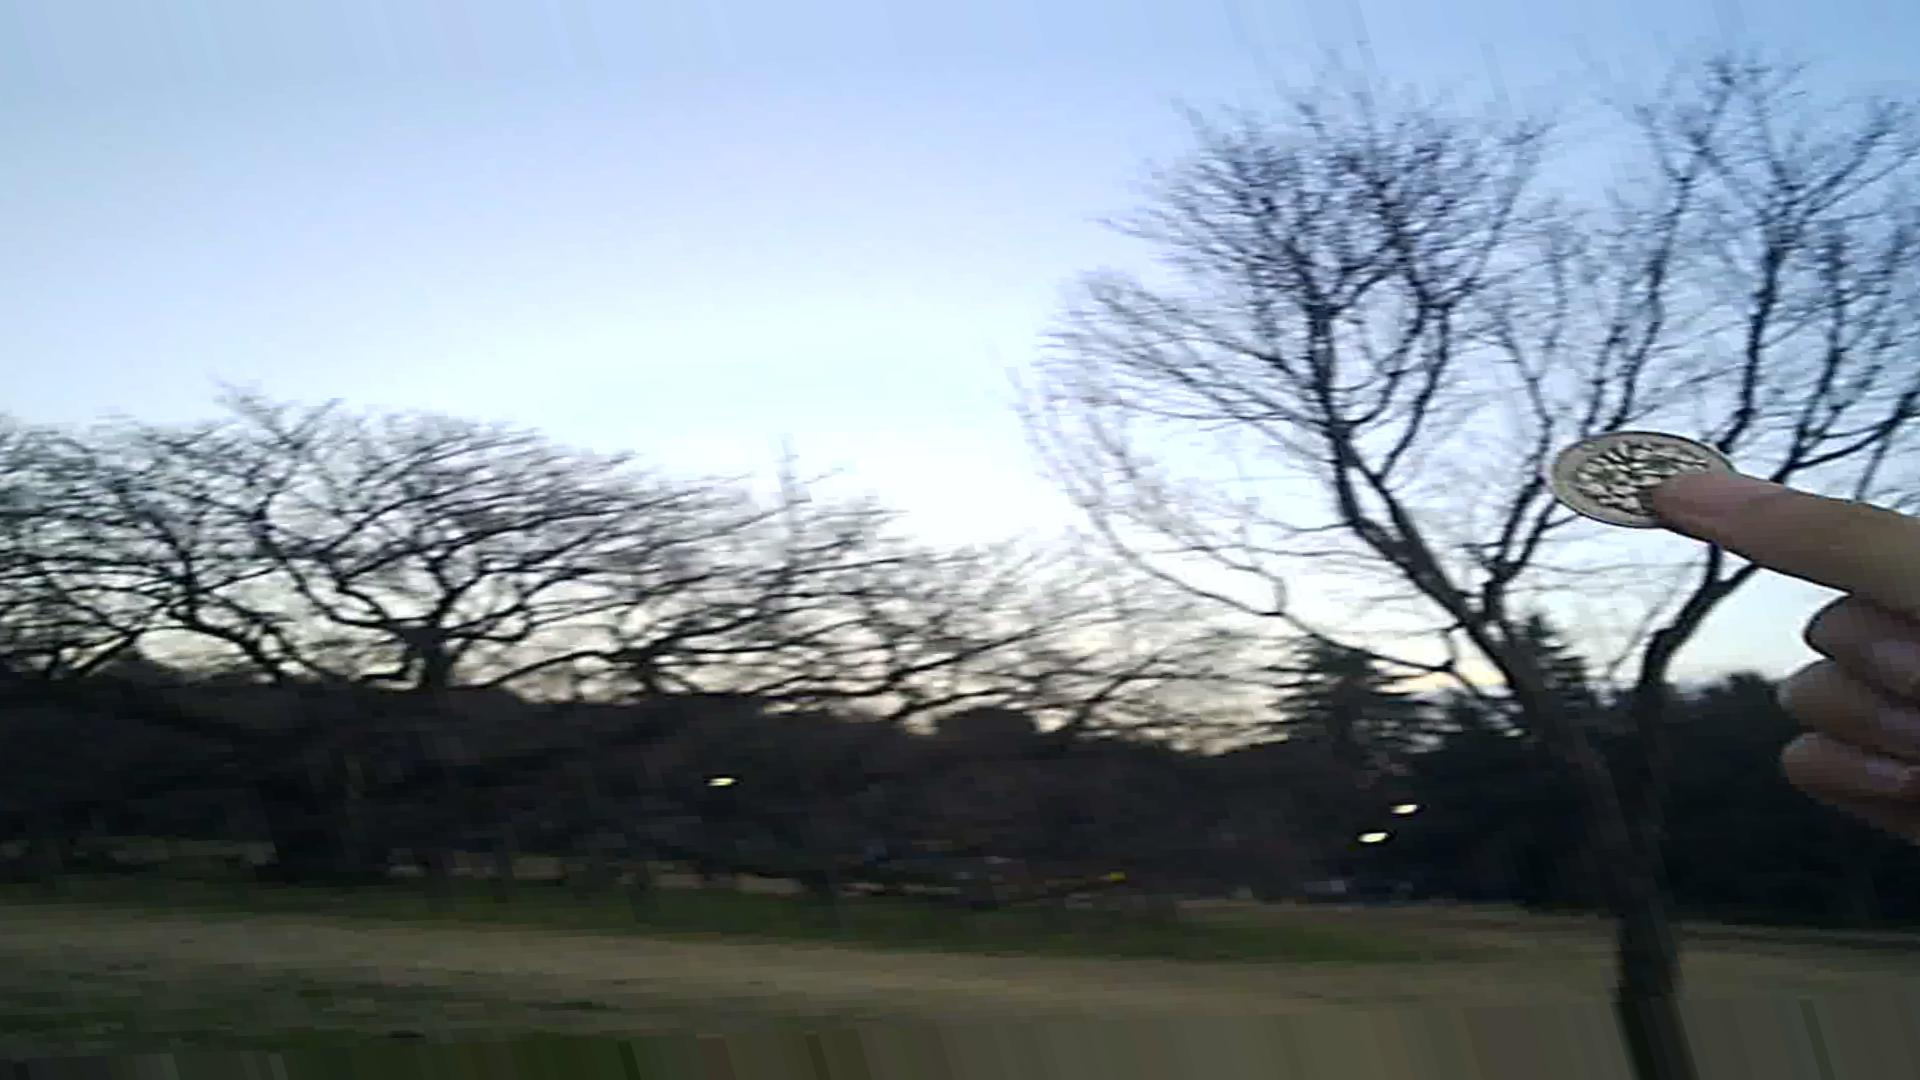100 Yen: (1552, 431, 1742, 525)
